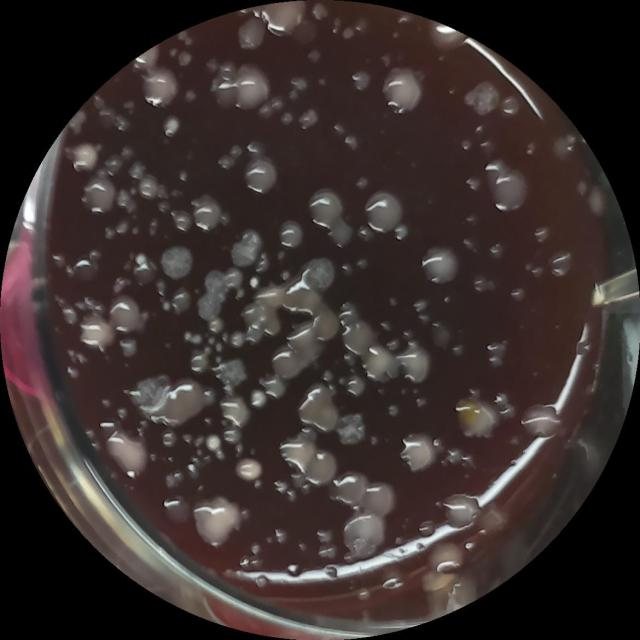Bacillus: (188, 491, 244, 552), (380, 65, 425, 116), (231, 62, 274, 114), (140, 64, 184, 114), (256, 0, 310, 37)
Staphylococcus: (248, 275, 260, 290)
